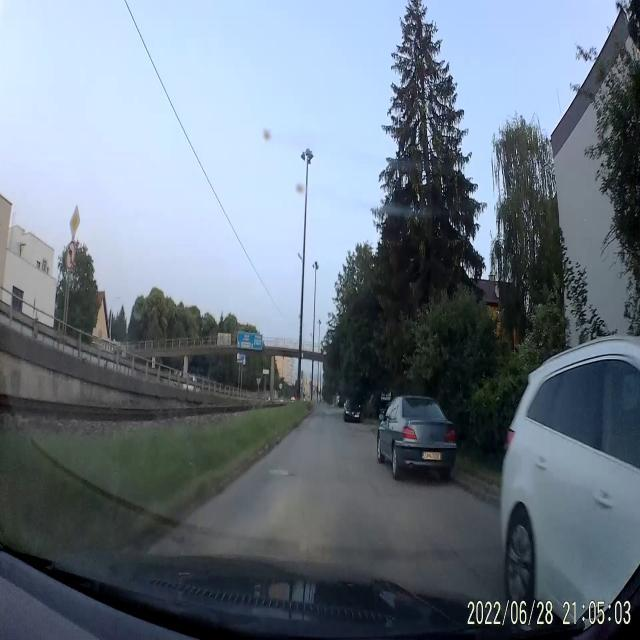Pothole: (266, 462, 294, 481)
